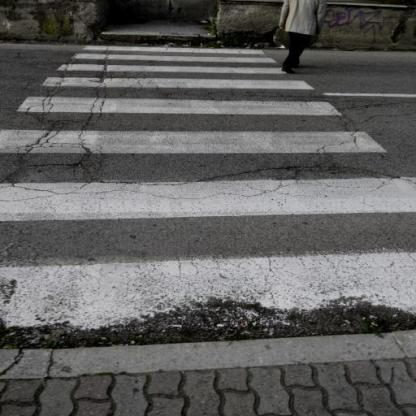crosswalk: (0, 165, 416, 343), (15, 74, 352, 124)
